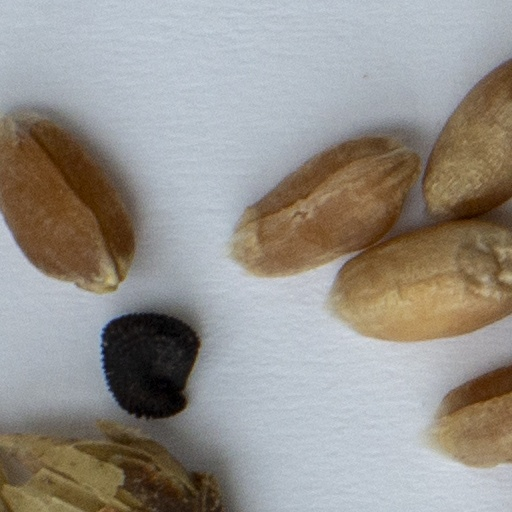Agrostemma-poly: (103, 315, 315, 418)
Peel-poly: (0, 431, 431, 511), (0, 458, 458, 511)
